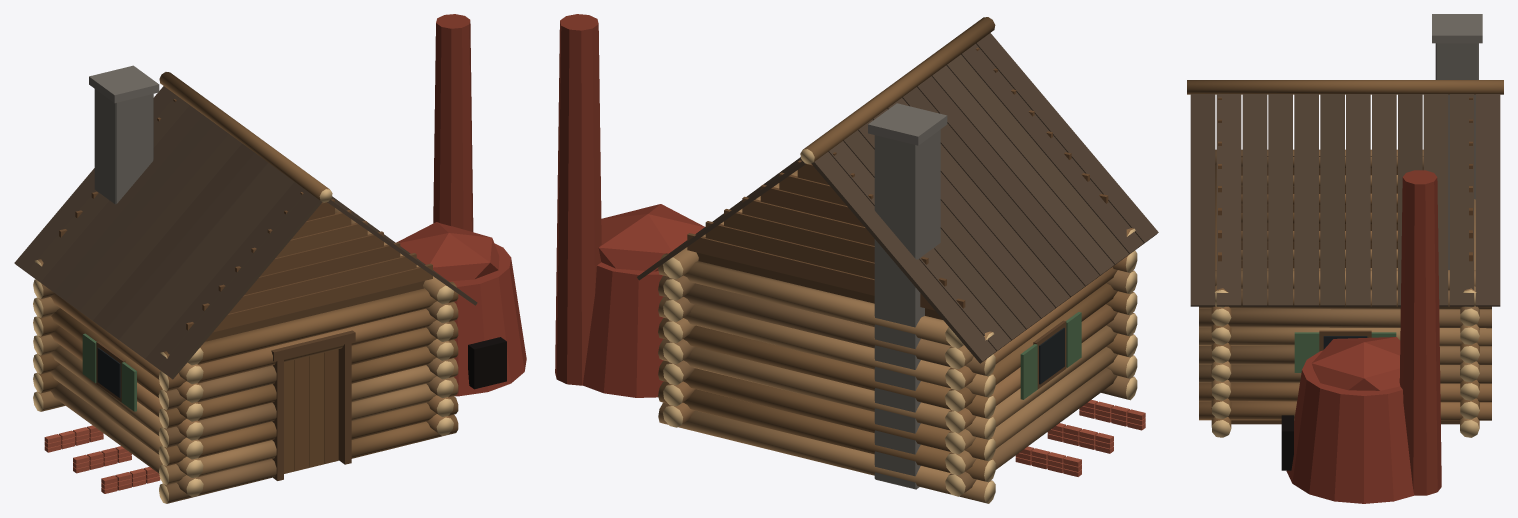
File: brickworks_1.glb
3 views of the same model, side by side, from view 1: azimuth 30°, elevation 25°; view 2: azimuth 150°, elevation 25°; view 3: azimuth 270°, elevation 25° (orthographic). The views are drawn at different scales.
Parts seen in each view (by area): view 1: brickworks1_log, brickworks1_roof, brickworks1_wood, brickworks1_brick, brickworks1_stone, brickworks1_soot, brickworks1_glass; view 2: brickworks1_log, brickworks1_roof, brickworks1_brick, brickworks1_wood, brickworks1_stone, brickworks1_glass; view 3: brickworks1_roof, brickworks1_brick, brickworks1_log, brickworks1_stone, brickworks1_wood, brickworks1_soot.
Boxes of the visible parts, x1,y1,x2,y2 form: brickworks1_log: [33, 72, 458, 503]; brickworks1_roof: [14, 86, 477, 379]; brickworks1_wood: [59, 99, 432, 480]; brickworks1_brick: [44, 14, 526, 493]; brickworks1_stone: [89, 65, 159, 204]; brickworks1_soot: [468, 337, 506, 389]; brickworks1_glass: [97, 347, 120, 397]; brickworks1_log: [658, 17, 1137, 503]; brickworks1_roof: [637, 33, 1158, 363]; brickworks1_brick: [555, 14, 1145, 476]; brickworks1_wood: [687, 47, 1108, 399]; brickworks1_stone: [868, 103, 947, 489]; brickworks1_glass: [1039, 327, 1064, 384]; brickworks1_roof: [1190, 94, 1500, 306]; brickworks1_brick: [1286, 170, 1441, 503]; brickworks1_log: [1187, 80, 1503, 437]; brickworks1_stone: [1432, 14, 1482, 269]; brickworks1_wood: [1218, 97, 1472, 424]; brickworks1_soot: [1281, 415, 1293, 470].
Size of the model in its own units: 8.47 by 5.55 by 5.1.
